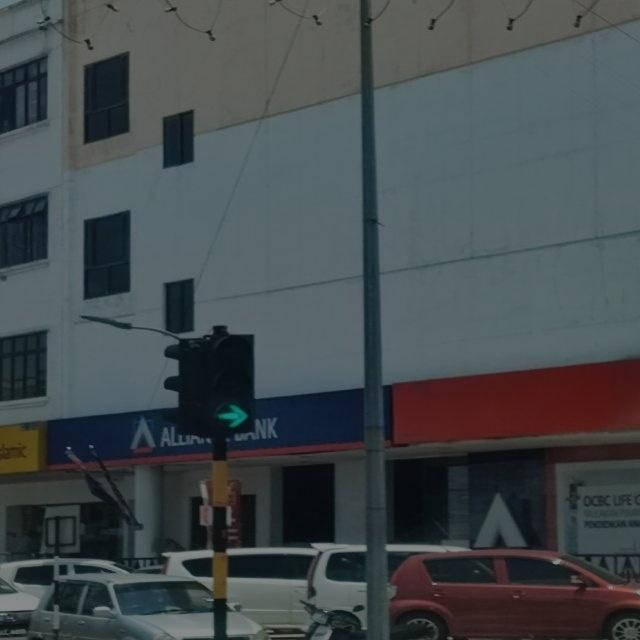Green: (208, 334, 254, 436)
